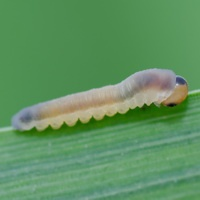insect: (12, 69, 187, 129)
